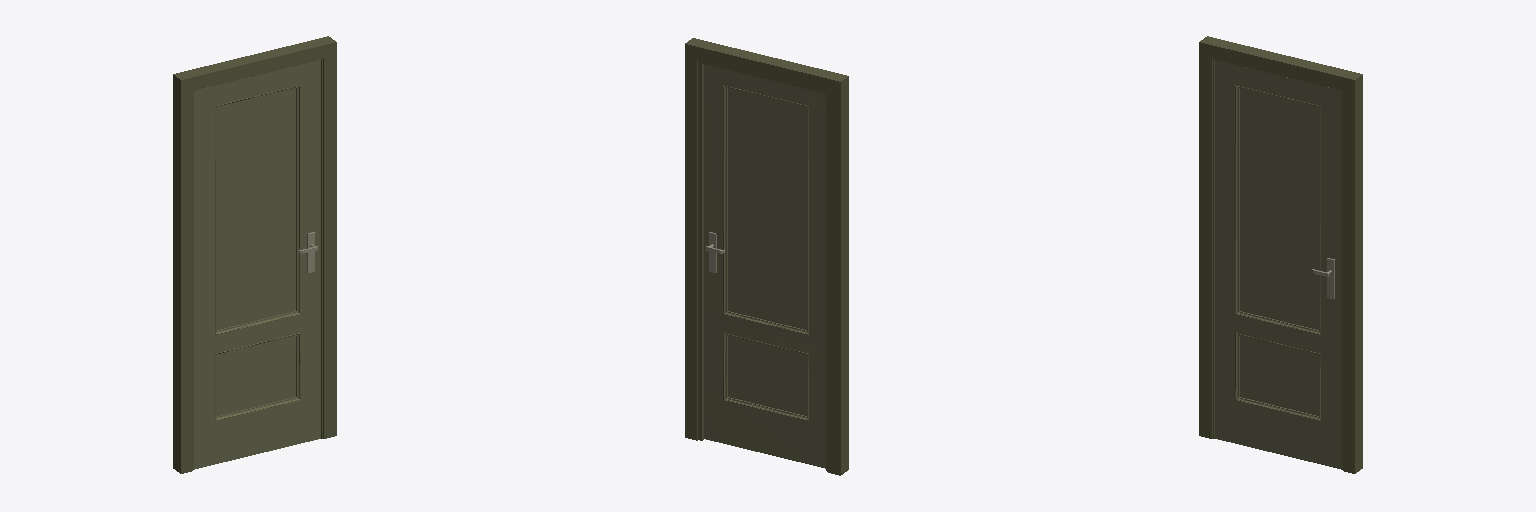
The model's file is door.obj.
The picture shows the model from 3 angles: view 1: azimuth 30°, elevation 25°; view 2: azimuth 150°, elevation 25°; view 3: azimuth 330°, elevation 25°; orthographic projection.
Visible parts, largest first — view 1: door_Mesh, marc_Cube; view 2: door_Mesh, marc_Cube; view 3: door_Mesh, marc_Cube.
Part boxes in pixels (left/top/right/bottom): door_Mesh: left=194, top=60, right=320, bottom=469; marc_Cube: left=173, top=36, right=336, bottom=473; door_Mesh: left=704, top=64, right=825, bottom=468; marc_Cube: left=685, top=38, right=848, bottom=475; door_Mesh: left=1215, top=60, right=1341, bottom=469; marc_Cube: left=1199, top=36, right=1362, bottom=473.
Bounding box in the file's own units: 87.38 × 211 × 13.81.